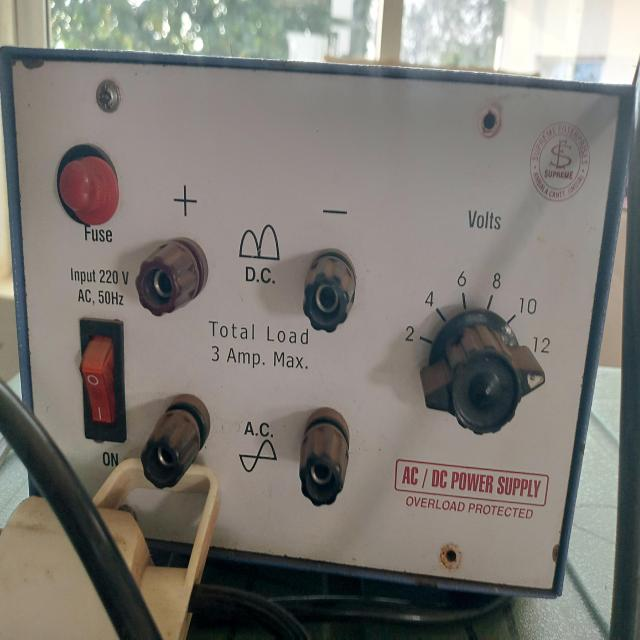AC and DC Power Supply 12 V: (1, 55, 634, 567)
